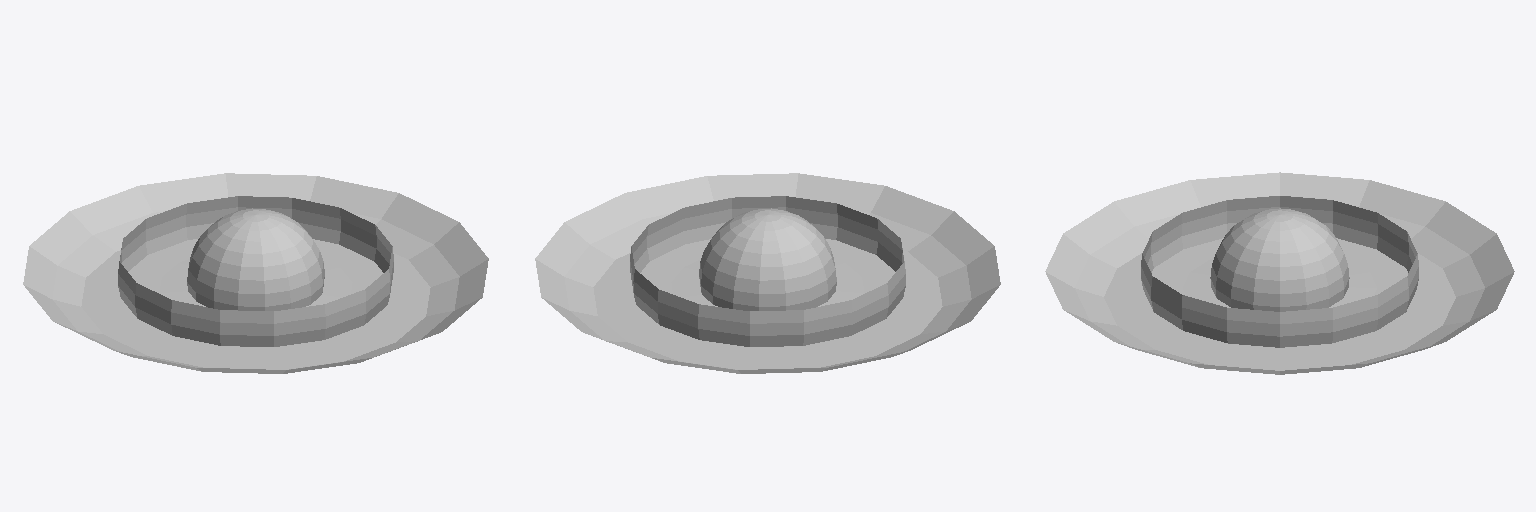
3 views of the same model, side by side, from view 1: azimuth 30°, elevation 25°; view 2: azimuth 150°, elevation 25°; view 3: azimuth 270°, elevation 25° (orthographic).
Visible parts, largest first — view 1: SUN_GROUND, SUN_SKY, SKY_OUT_C, SKY_OUT_A, SKY_OUT_B, SKY_OUT_D, SUN_CLOUD_A; view 2: SUN_GROUND, SUN_SKY, SKY_OUT_B, SKY_OUT_D, SKY_OUT_C, SKY_OUT_A, SUN_CLOUD_A; view 3: SUN_GROUND, SUN_SKY, SKY_OUT_A, SKY_OUT_D, SKY_OUT_B, SKY_OUT_C, SUN_CLOUD_A.
Part boxes in pixels (x1,y1,x2,y2): SUN_GROUND: (23,173,488,373); SUN_SKY: (187,208,324,310); SKY_OUT_C: (135,283,325,346); SKY_OUT_A: (186,196,376,260); SKY_OUT_B: (118,204,187,318); SKY_OUT_D: (324,225,393,339); SUN_CLOUD_A: (160,259,352,306); SUN_GROUND: (535,173,1000,373); SUN_SKY: (699,208,836,310); SKY_OUT_B: (698,283,888,346); SKY_OUT_D: (647,196,837,260); SKY_OUT_C: (836,204,905,318); SKY_OUT_A: (630,225,699,339); SUN_CLOUD_A: (671,259,863,306); SUN_GROUND: (1045,172,1514,374); SUN_SKY: (1210,208,1349,311); SKY_OUT_A: (1280,254,1418,347); SKY_OUT_D: (1141,254,1279,347); SKY_OUT_B: (1280,196,1417,272); SKY_OUT_C: (1142,196,1279,272); SUN_CLOUD_A: (1183,258,1376,307).
Size of the model in its own units: 3375 by 652 by 3375.